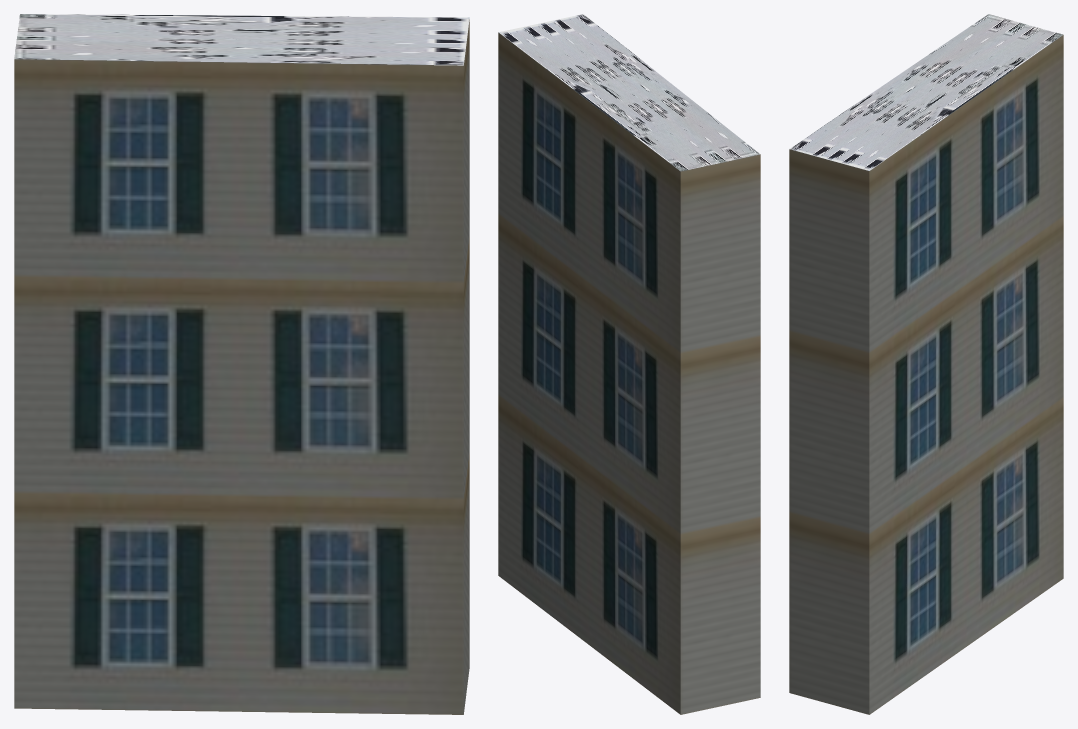
File: ResTex__4491.fbx
3 views of the same model, side by side, from view 1: azimuth 30°, elevation 25°; view 2: azimuth 150°, elevation 25°; view 3: azimuth 270°, elevation 25° (orthographic). The views are drawn at different scales.
Parts seen in each view (by area): view 1: CityEngineMaterial_7_m, CityEngineMaterial_8_m; view 2: CityEngineMaterial_7_m, CityEngineMaterial_8_m; view 3: CityEngineMaterial_7_m, CityEngineMaterial_8_m.
Part boxes in pixels (left/top/right/bottom): CityEngineMaterial_7_m: left=14, top=19, right=469, bottom=714; CityEngineMaterial_8_m: left=14, top=14, right=469, bottom=65; CityEngineMaterial_7_m: left=498, top=32, right=760, bottom=714; CityEngineMaterial_8_m: left=499, top=14, right=759, bottom=171; CityEngineMaterial_7_m: left=789, top=35, right=1063, bottom=714; CityEngineMaterial_8_m: left=789, top=14, right=1062, bottom=170.
Bounding box in the file's own units: 5.58 × 9 × 4.12.
Materials: 2 (2 with a texture image).
